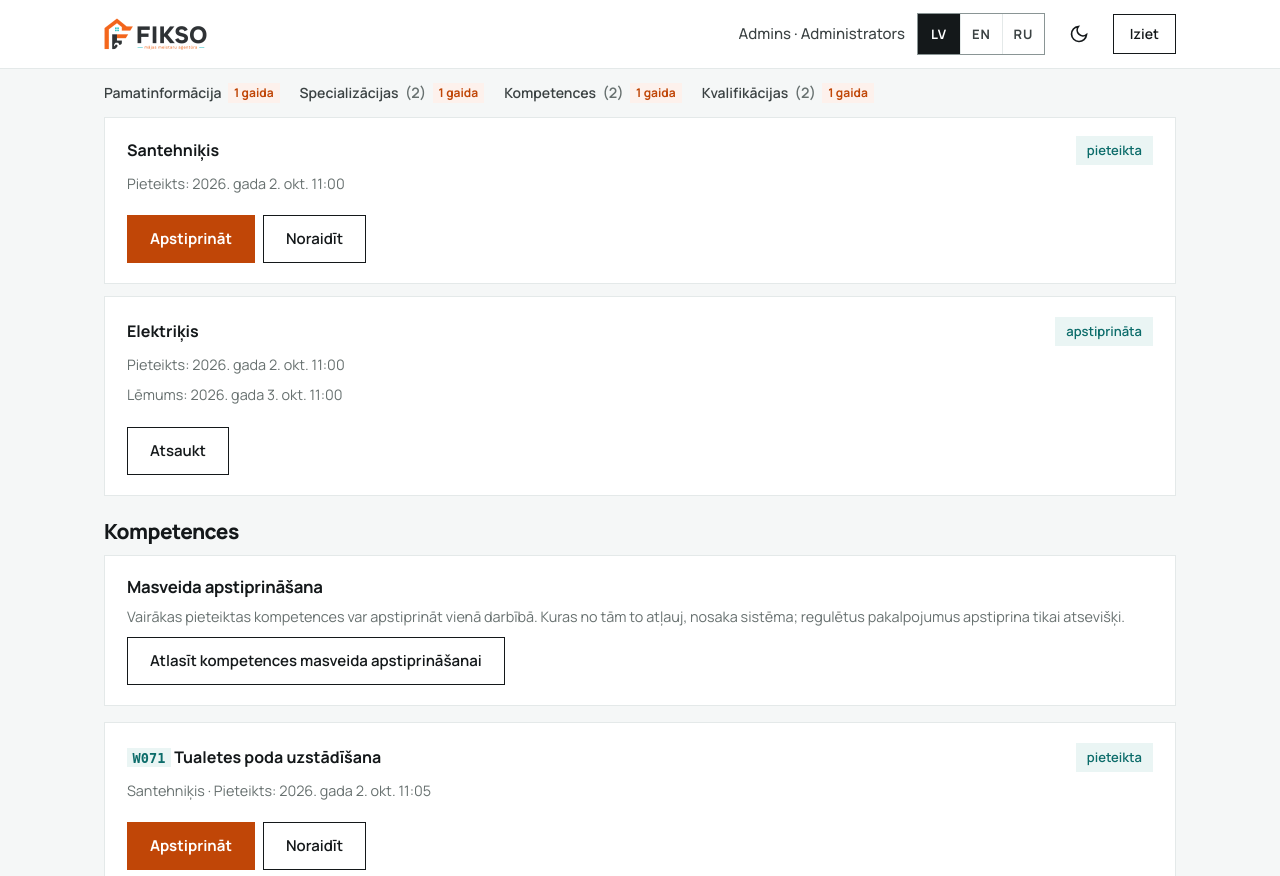
Test: master card: decisions › specialisation revoke asks for a reason and a confirmation
(page scrolled)
Click the button with aria-label "Atsaukt: Elektriķis" at [178, 450], box [127, 426, 229, 474]
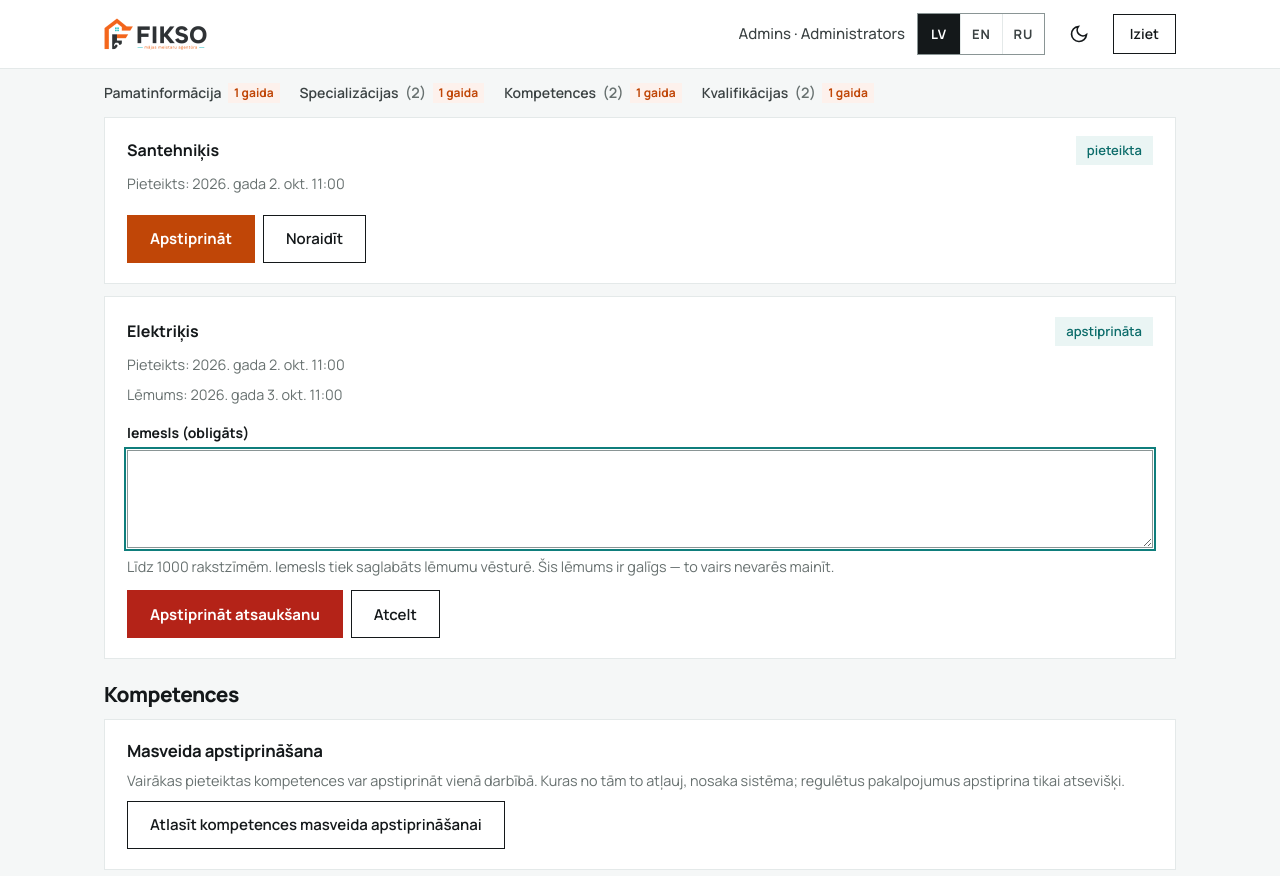
Type "  Dokuments neatbilst  " into the text box labelled "Iemesls (obligāts)" at [640, 499], box [127, 450, 1153, 548]
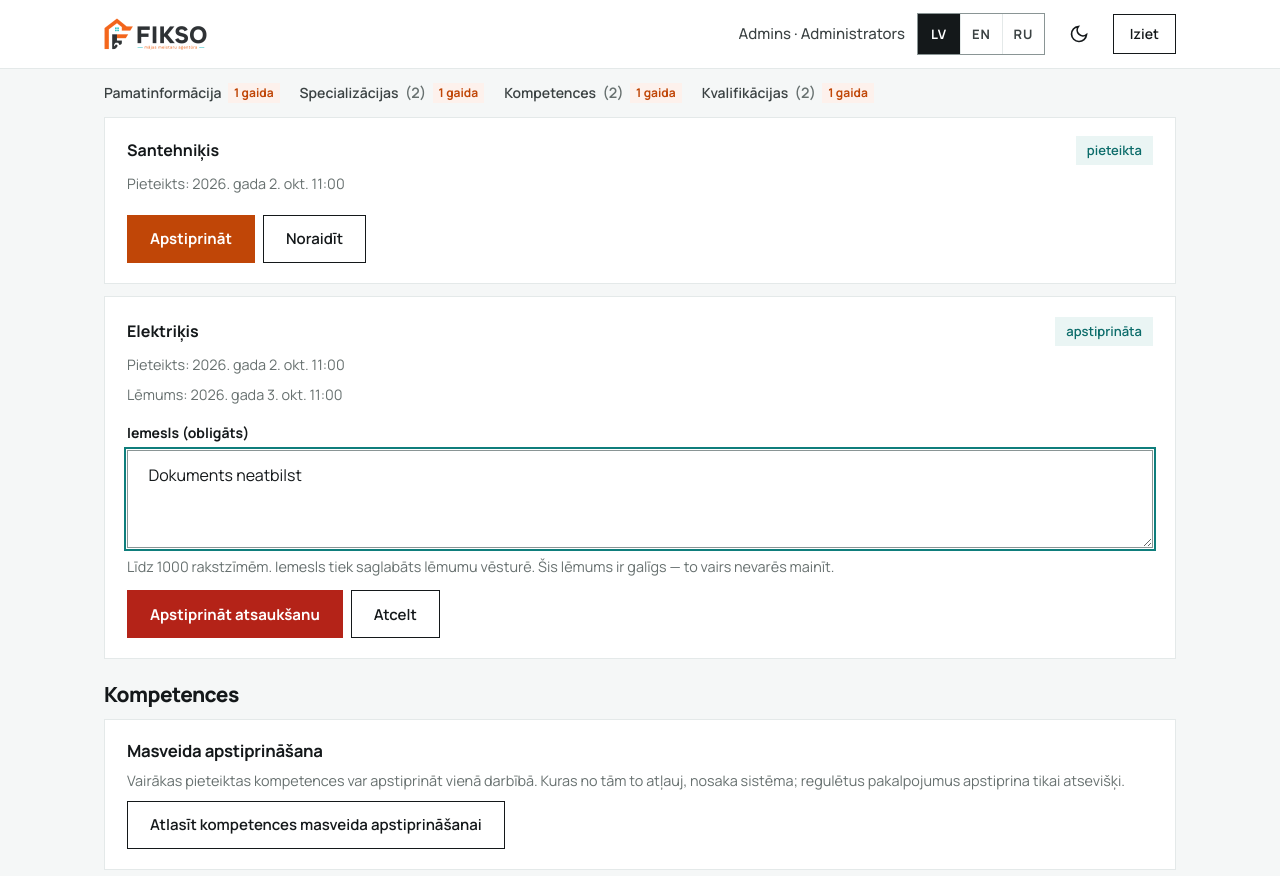
Click the button "Apstiprināt atsaukšanu" at [235, 614], box [127, 590, 343, 638]
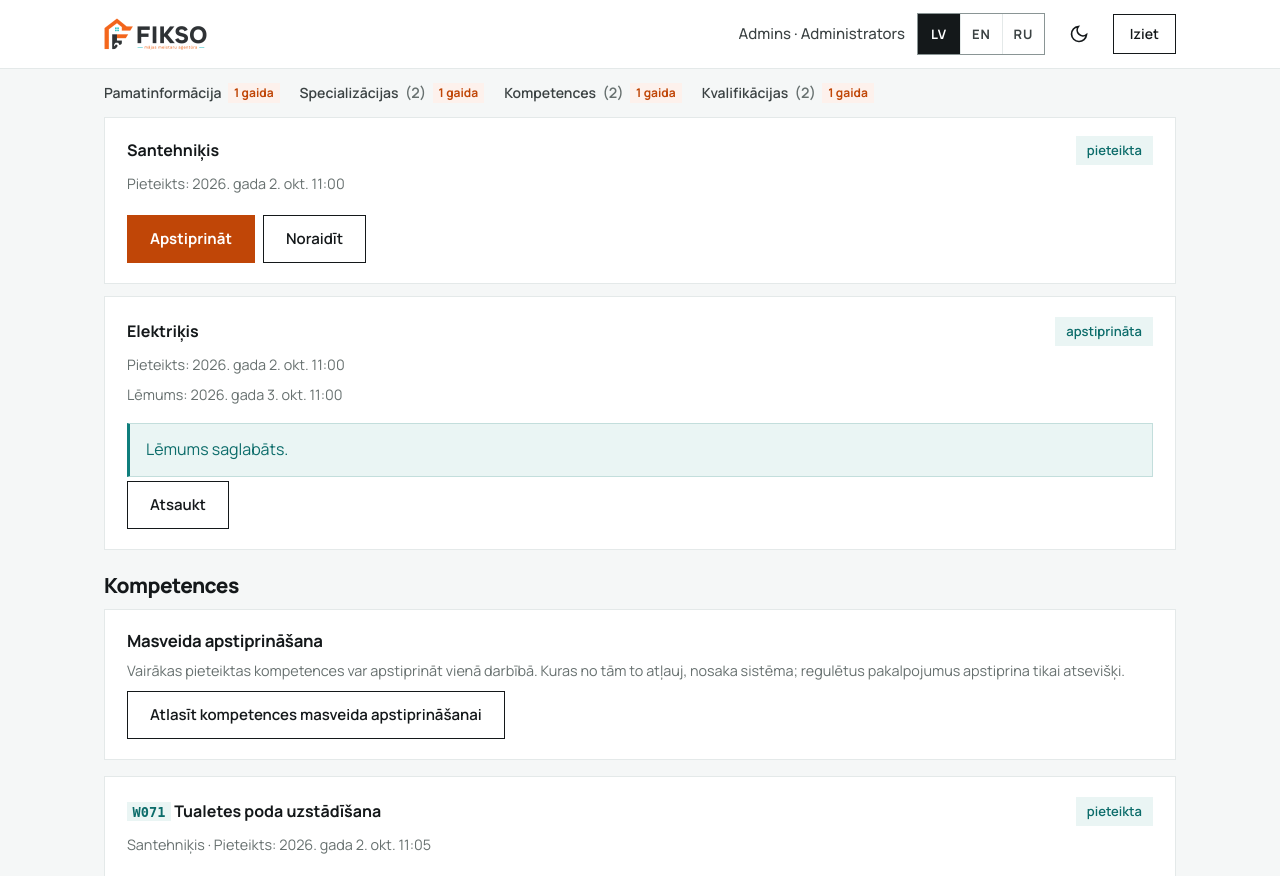
Result: the text "Lēmums saglabāts." is shown at [127, 422, 1153, 476]
Result: the label labelled "Iemesls (obligāts)" is gone
